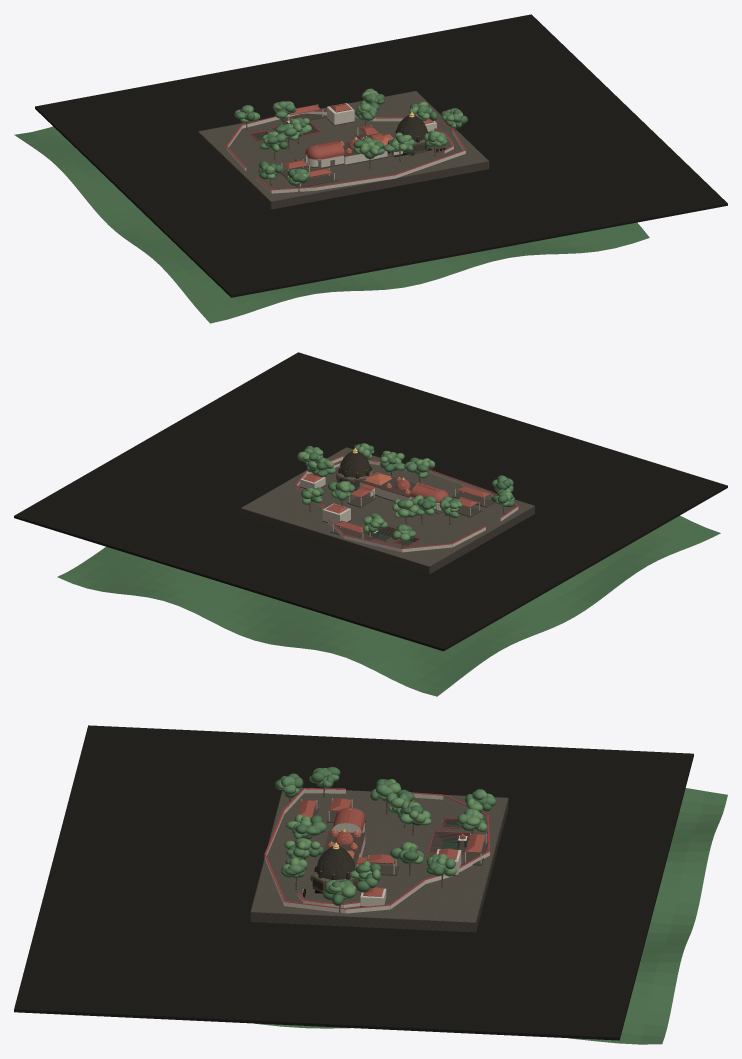
File: kamakhya_kshetra_full.glb
The picture shows the model from 3 angles, top to bottom: view 1: azimuth 30°, elevation 25°; view 2: azimuth 150°, elevation 25°; view 3: azimuth 270°, elevation 25°; orthographic projection. The views are drawn at different scales.
Parts seen in each view (by area): view 1: Ground_Nilachal_Foundation, Terrain_Nilachal_Hill_Slope-renderonly, Terrain_Nilachal_Courtyard_Banyan_Canopies-renderonly, Nilachal_Terrace_Stone_Retaining_Base, Court_Terrace_Stone_Paving.002, Court_Terrace_Stone_Paving.031, Court_Terrace_Stone_Paving.024, Nilachal_Terrace_Stone_Retaining_Base.003, Court_Terrace_Stone_Paving, Court_Terrace_Stone_Paving.037, Natmandir_Gajapristha_Roof, Kamakhya_Main_Beehive_Polygonal_Shikhara (+2 smaller); view 2: Ground_Nilachal_Foundation, Terrain_Nilachal_Hill_Slope-renderonly, Terrain_Nilachal_Courtyard_Banyan_Canopies-renderonly, Nilachal_Terrace_Stone_Retaining_Base.002, Nilachal_Terrace_Stone_Retaining_Base.003, Court_Terrace_Stone_Paving.002, Kamakhya_Main_Beehive_Polygonal_Shikhara, Court_Terrace_Stone_Paving.001, Court_Terrace_Stone_Paving.026; view 3: Ground_Nilachal_Foundation, Terrain_Nilachal_Hill_Slope-renderonly, Terrain_Nilachal_Courtyard_Banyan_Canopies-renderonly, Nilachal_Terrace_Stone_Retaining_Base.001, Court_Terrace_Stone_Paving.022, Court_Terrace_Stone_Paving.031, Kamakhya_Main_Beehive_Polygonal_Shikhara, Court_Terrace_Stone_Paving.037, Court_Terrace_Stone_Paving.032, Court_Terrace_Stone_Paving.039, Court_Terrace_Stone_Paving, Court_Terrace_Stone_Paving.036 (+9 smaller).
Part boxes in pixels (x1,y1,x2,y2): Ground_Nilachal_Foundation: (35, 14, 727, 297); Terrain_Nilachal_Hill_Slope-renderonly: (14, 126, 649, 323); Terrain_Nilachal_Courtyard_Banyan_Canopies-renderonly: (234, 88, 467, 192); Nilachal_Terrace_Stone_Retaining_Base: (271, 161, 488, 209); Court_Terrace_Stone_Paving.002: (219, 143, 279, 170); Court_Terrace_Stone_Paving.031: (395, 150, 454, 174); Court_Terrace_Stone_Paving.024: (355, 158, 412, 182); Nilachal_Terrace_Stone_Retaining_Base.003: (198, 131, 271, 209); Court_Terrace_Stone_Paving: (253, 178, 312, 201); Court_Terrace_Stone_Paving.037: (440, 144, 488, 167); Natmandir_Gajapristha_Roof: (305, 141, 344, 159); Kamakhya_Main_Beehive_Polygonal_Shikhara: (396, 115, 427, 141); Ground_Nilachal_Foundation: (14, 352, 727, 651); Terrain_Nilachal_Hill_Slope-renderonly: (57, 515, 720, 696); Terrain_Nilachal_Courtyard_Banyan_Canopies-renderonly: (297, 443, 514, 548); Nilachal_Terrace_Stone_Retaining_Base.002: (241, 508, 429, 574); Nilachal_Terrace_Stone_Retaining_Base.003: (429, 506, 534, 574); Court_Terrace_Stone_Paving.002: (424, 521, 487, 548); Kamakhya_Main_Beehive_Polygonal_Shikhara: (340, 451, 370, 477); Court_Terrace_Stone_Paving.001: (453, 512, 508, 532); Court_Terrace_Stone_Paving.026: (345, 496, 394, 518); Ground_Nilachal_Foundation: (14, 725, 693, 1040); Terrain_Nilachal_Hill_Slope-renderonly: (253, 788, 727, 1044); Terrain_Nilachal_Courtyard_Banyan_Canopies-renderonly: (274, 767, 496, 913); Nilachal_Terrace_Stone_Retaining_Base.001: (251, 912, 475, 932); Court_Terrace_Stone_Paving.022: (367, 829, 433, 852); Court_Terrace_Stone_Paving.031: (256, 868, 313, 894); Kamakhya_Main_Beehive_Polygonal_Shikhara: (316, 846, 355, 879); Court_Terrace_Stone_Paving.037: (251, 892, 311, 914); Court_Terrace_Stone_Paving.032: (355, 874, 422, 899); Court_Terrace_Stone_Paving.039: (350, 897, 416, 919); Court_Terrace_Stone_Paving: (277, 788, 337, 813); Court_Terrace_Stone_Paving.036: (453, 877, 486, 902).
Size of what is drawn, in the model's own units: 213 by 32.54 by 203.
Materials: 18 (5 with a texture image).
